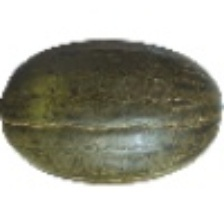honeydew: (21, 37, 188, 218)
